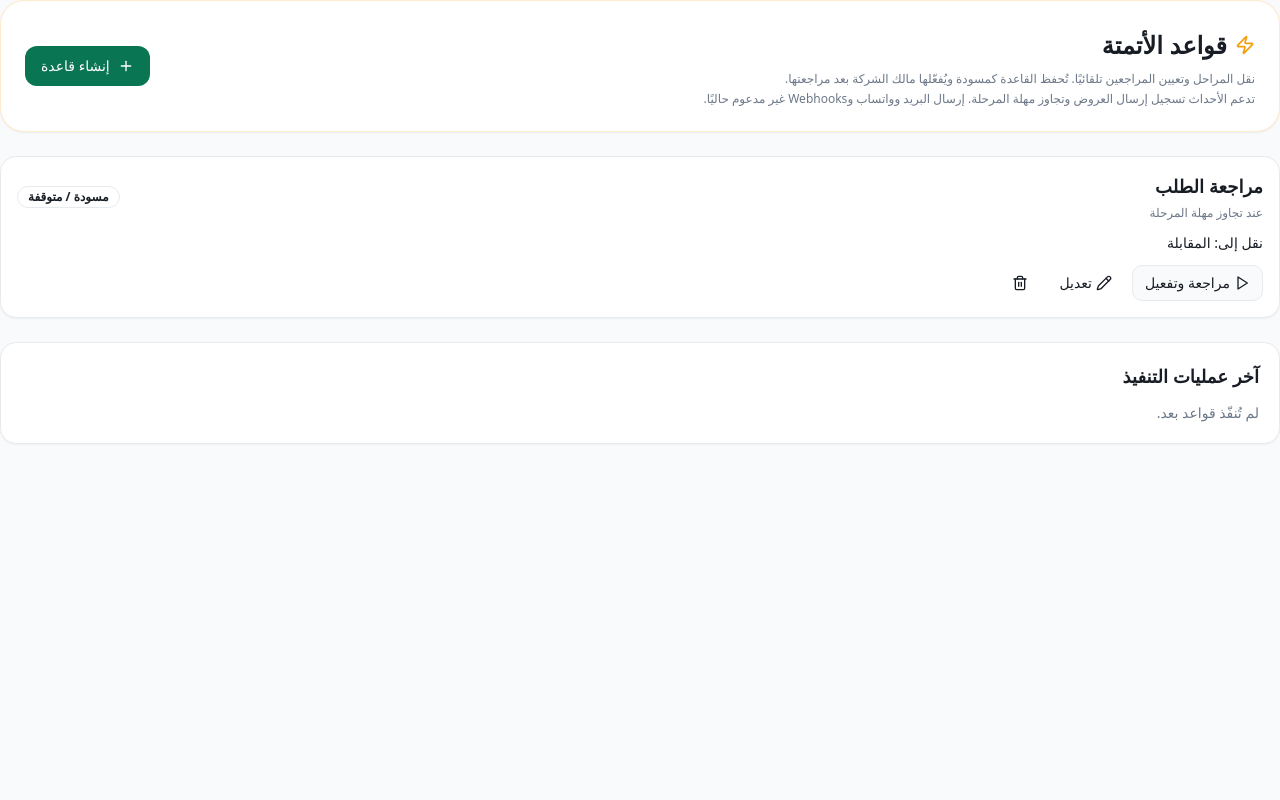
Test: Automation activation review › explains the SLA activation boundary before confirmation
Click the button "مراجعة وتفعيل".
click(1198, 283)  # box [1132,265,1263,301]
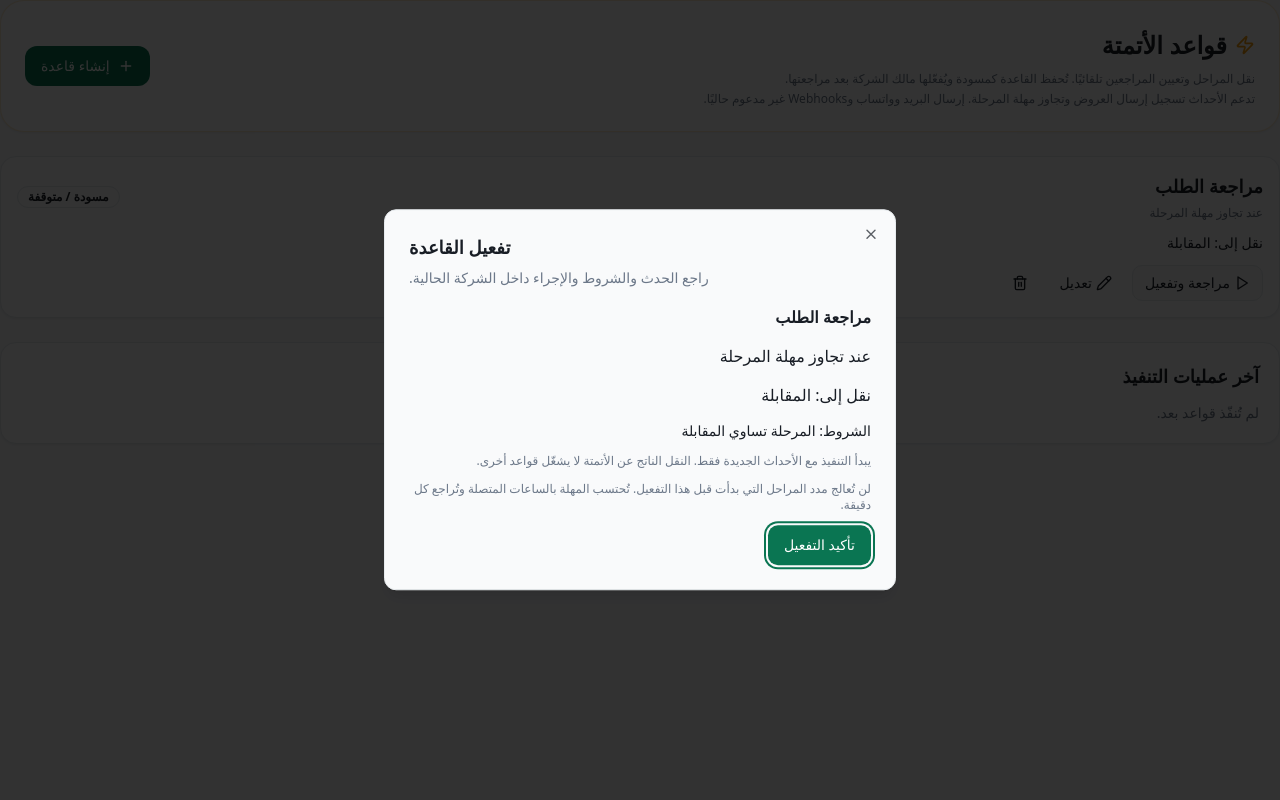
Result: the dialog shows "لن تُعالج مدد المراحل التي بدأت قبل هذا التفعيل" at [414,481,871,514]
